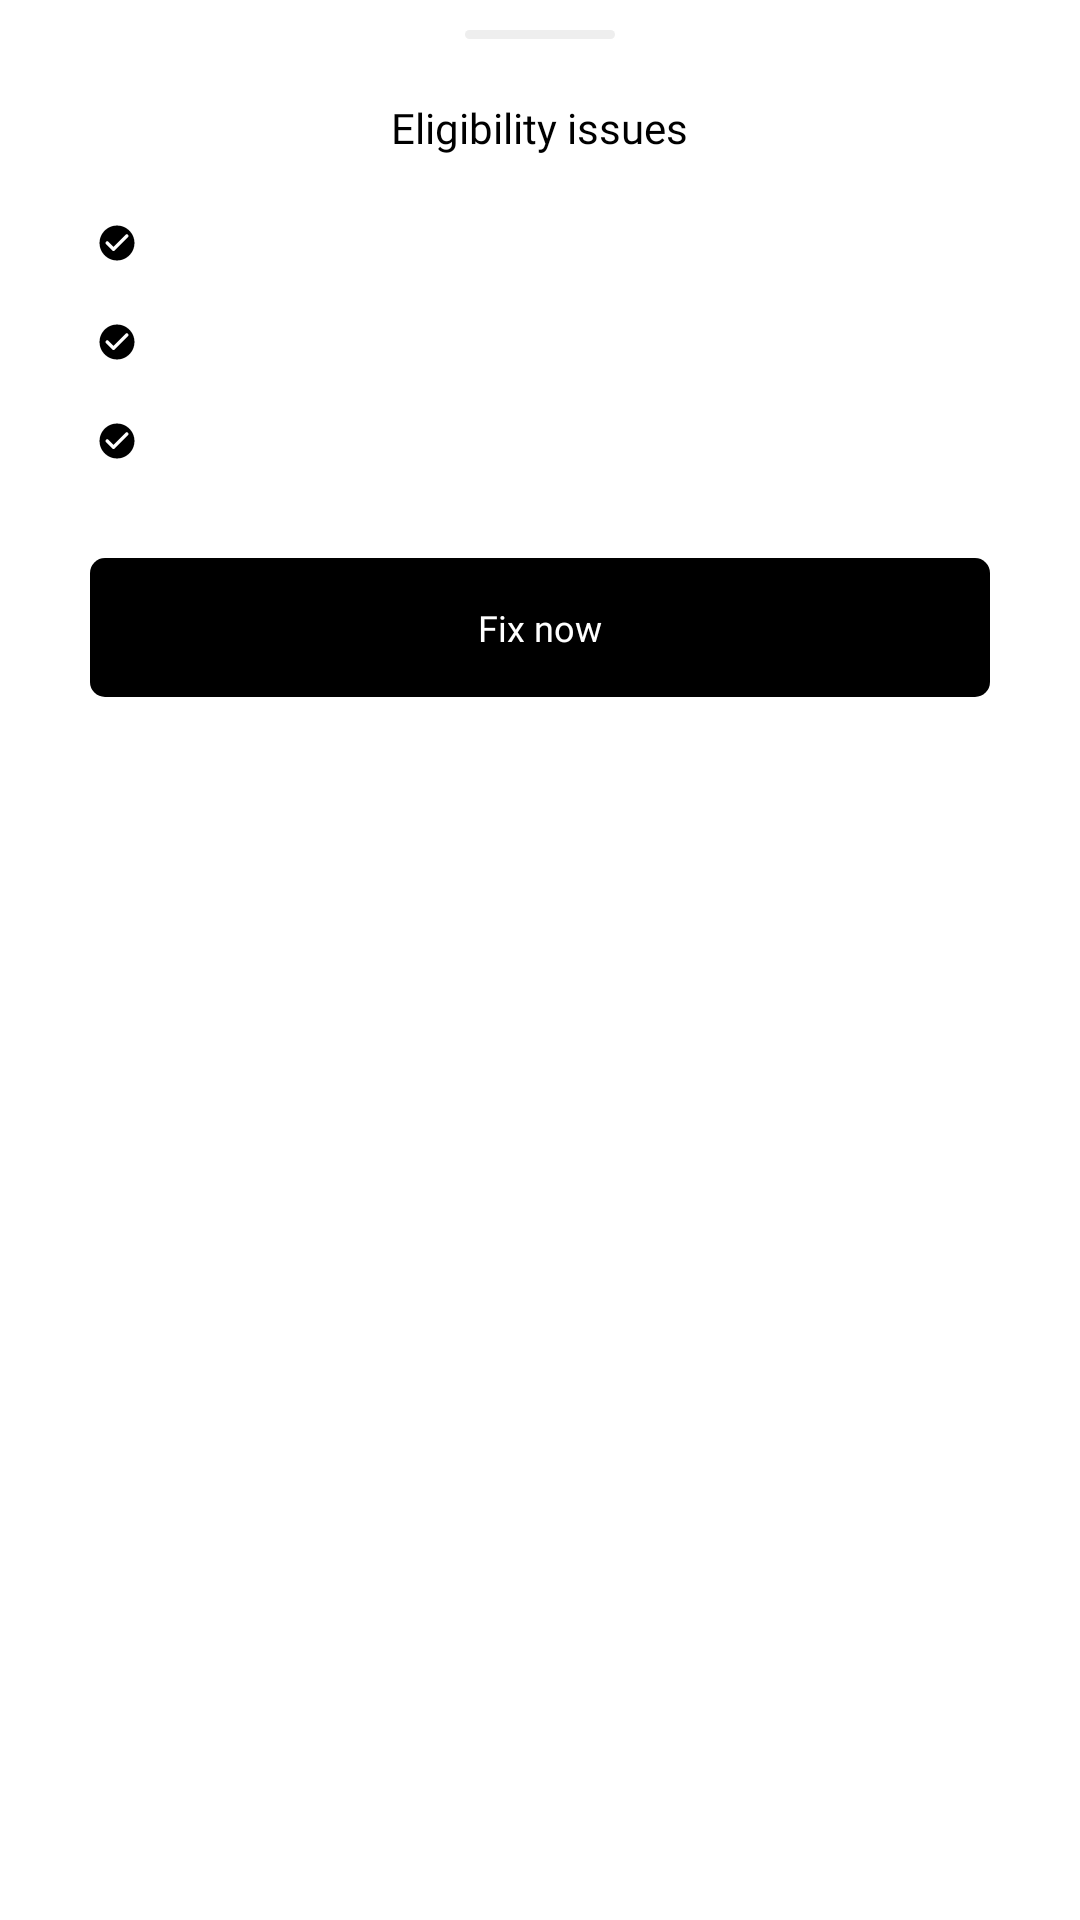

Icon bounding boxes for this 1080×1920 phone screenshot, format (x1, y1, x2, y2):
check circle round: (99, 225, 135, 261), (99, 324, 135, 360), (99, 423, 135, 459)
